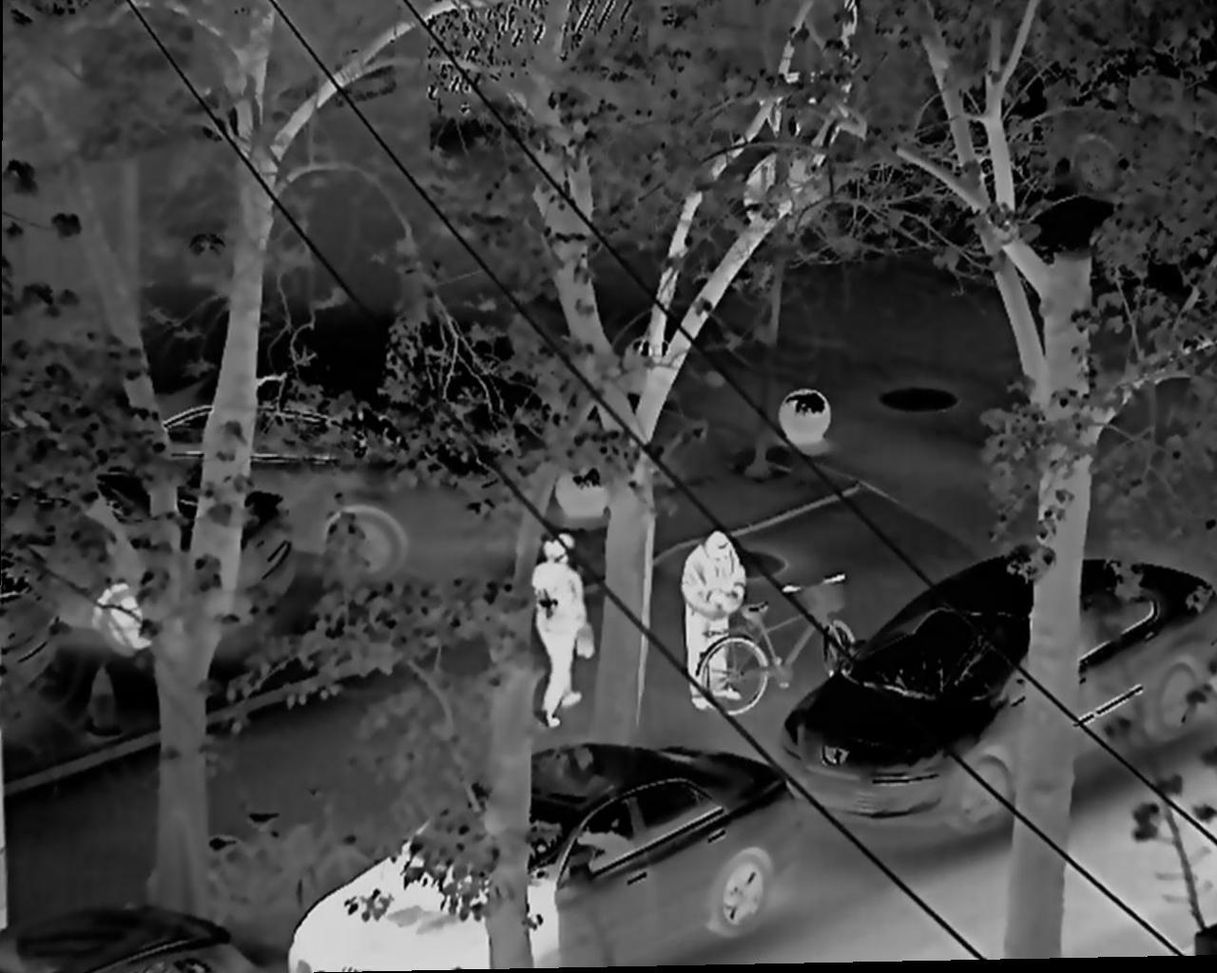person: (532, 535, 597, 728), (682, 529, 747, 710)
